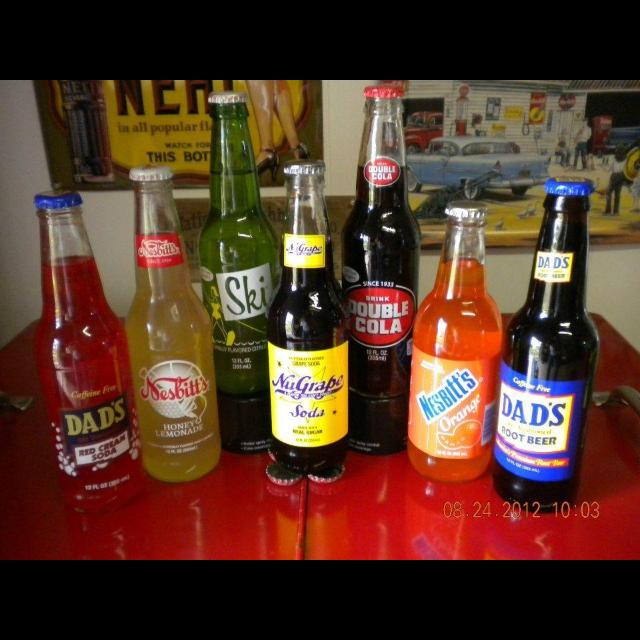garrafa de vidro: (34, 188, 146, 514), (493, 176, 601, 514), (198, 88, 288, 456), (127, 163, 223, 484), (340, 84, 418, 458), (408, 198, 504, 484), (268, 159, 346, 485)
